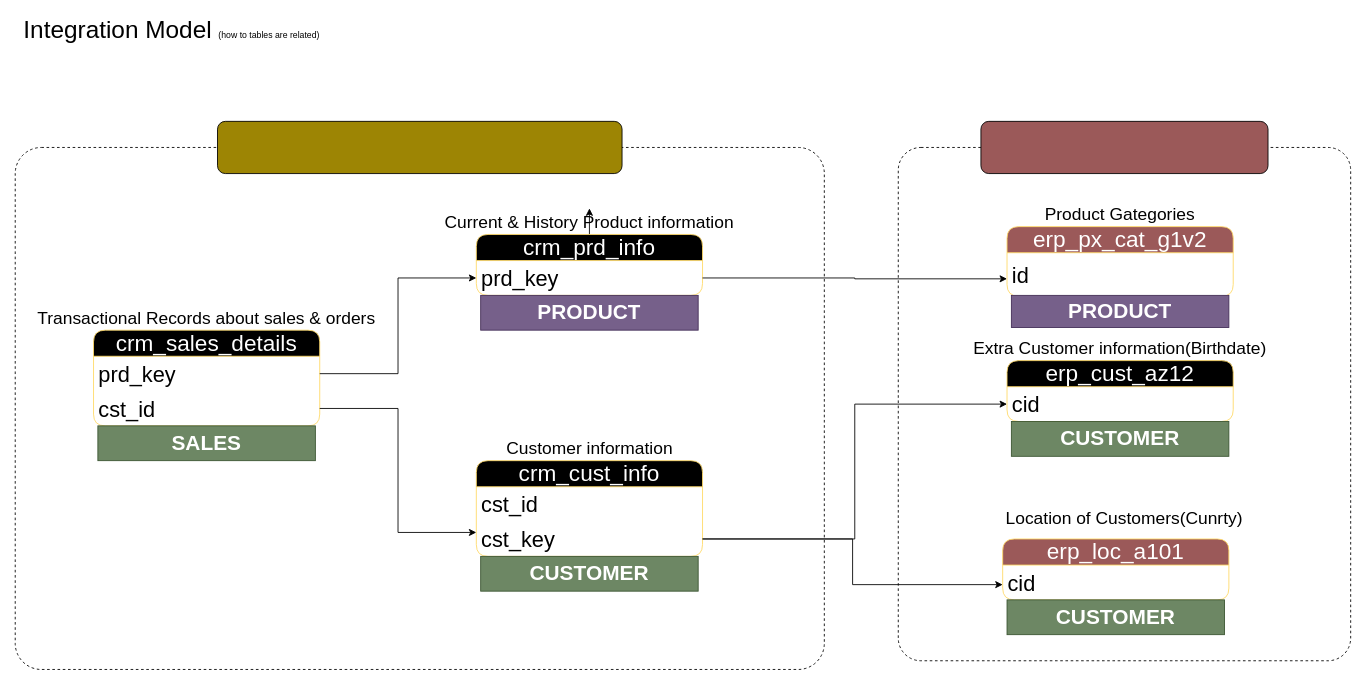
Some shapes in this 1366 by 685 pixel diagram are drawn without their labels. Here are the shapes that lost their labels. From the top down, the centre of each, then its label:
pixel 419 147: CRM
pixel 1124 147: ERP
